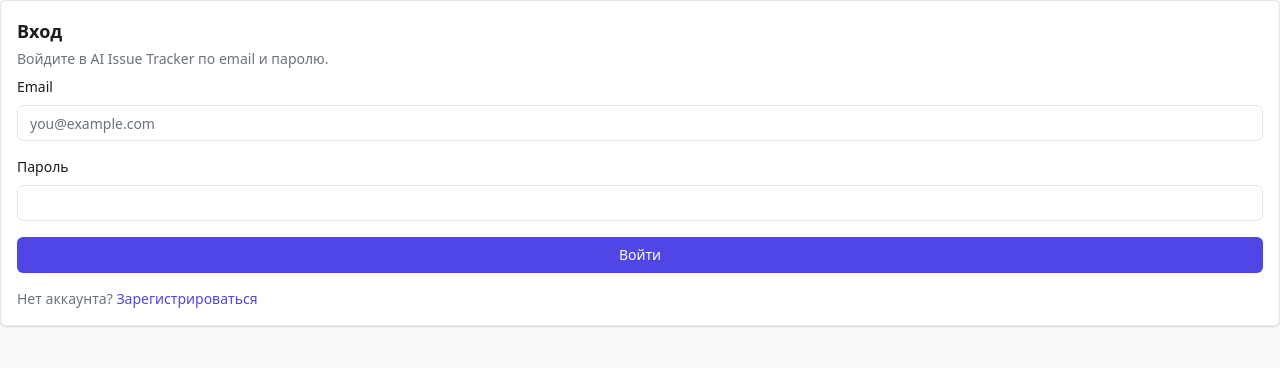
Test: LoginForm › показывает клиентскую ошибку при невалидном формате email
Type "not-an-email" into the field labelled "Email" at {"x": 640, "y": 123}, box [17, 105, 1263, 141]
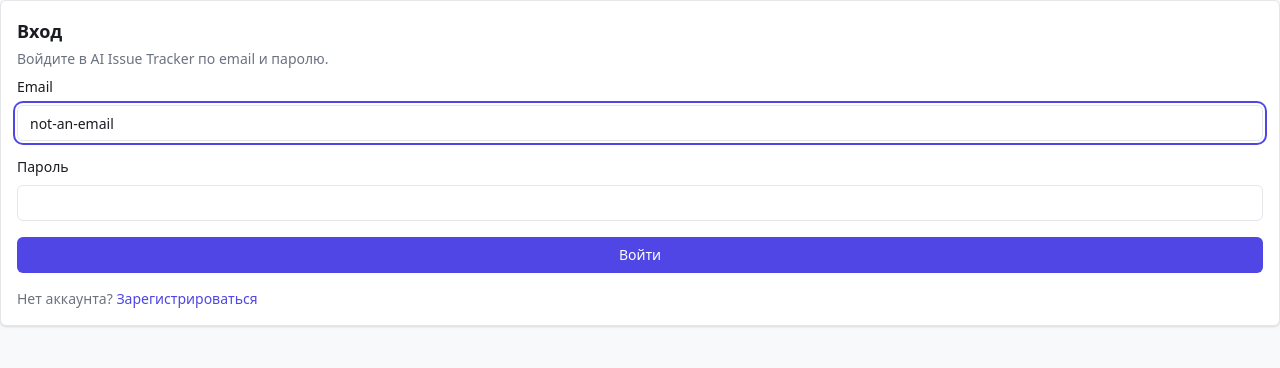
Type "secret123" into the password field labelled "Пароль" at {"x": 640, "y": 203}, box [17, 185, 1263, 221]
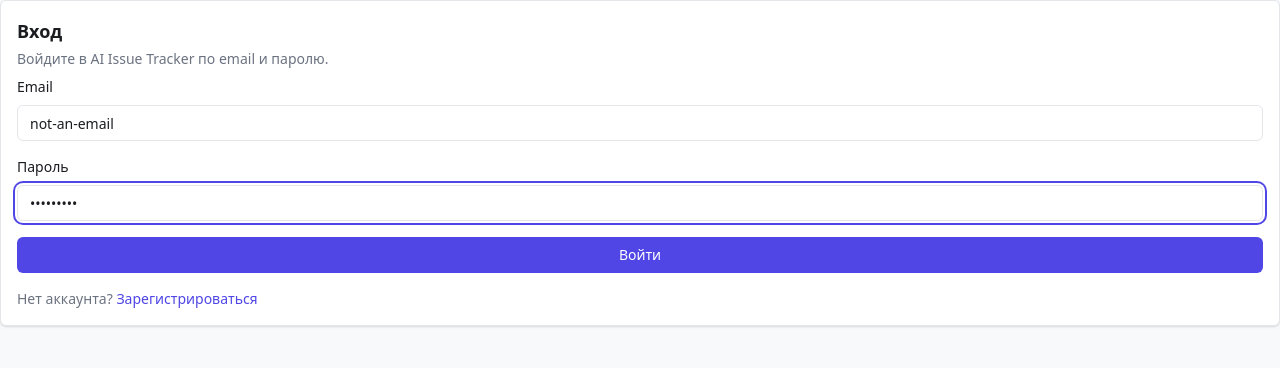
Click the button "Войти" at {"x": 640, "y": 255}, box [17, 237, 1263, 273]
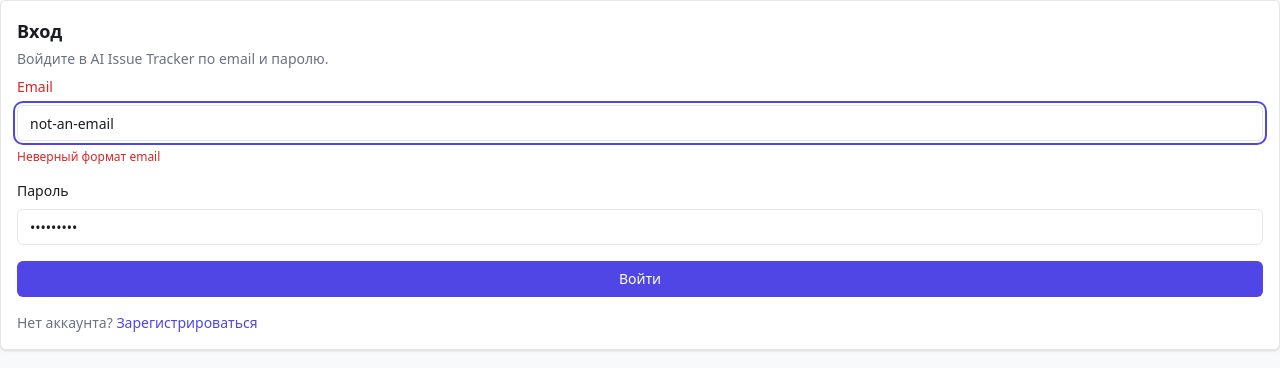
Now the text "Неверный формат email" is shown, box [17, 148, 160, 165]
